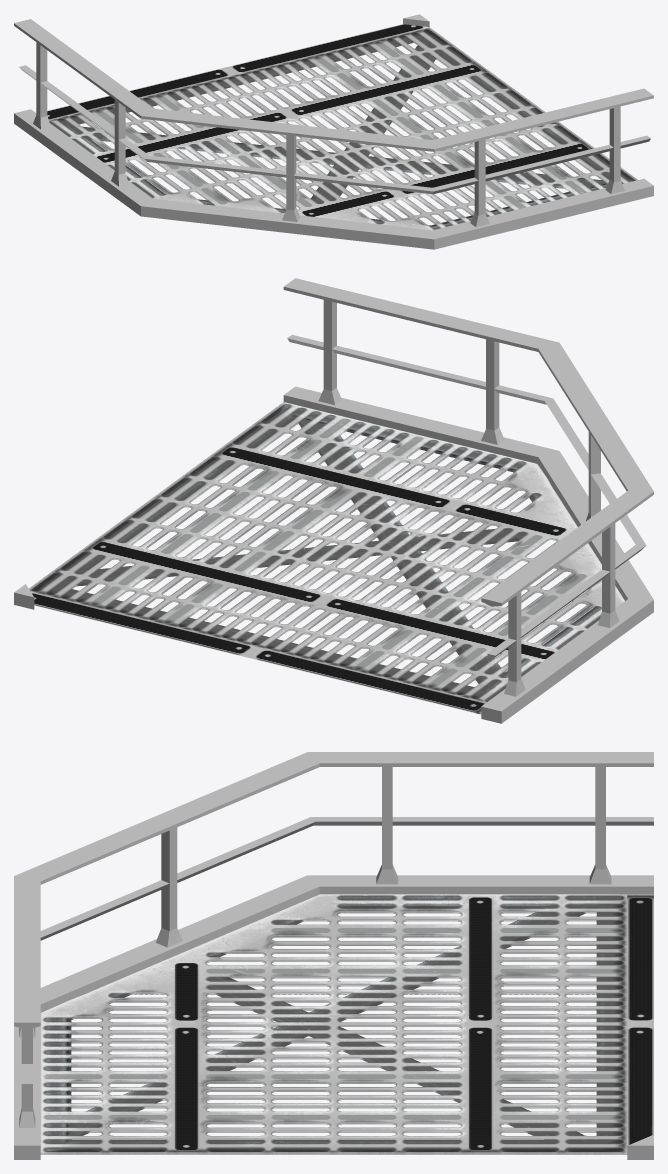
File: PlateForm_Corner_01.FBX
3 views of the same model, one above another, from view 1: azimuth 30°, elevation 25°; view 2: azimuth 150°, elevation 25°; view 3: azimuth 270°, elevation 25° (orthographic). The views are drawn at different scales.
Parts seen in each view (by area): view 1: PlateForm_Corner_01; view 2: PlateForm_Corner_01; view 3: PlateForm_Corner_01.
Part boxes in pixels (x1,y1,x2,y2): PlateForm_Corner_01: (14,14,653,249); PlateForm_Corner_01: (14,278,653,723); PlateForm_Corner_01: (14,752,653,1159).
Bounding box in the file's own units: 6 × 1.42 × 6.
